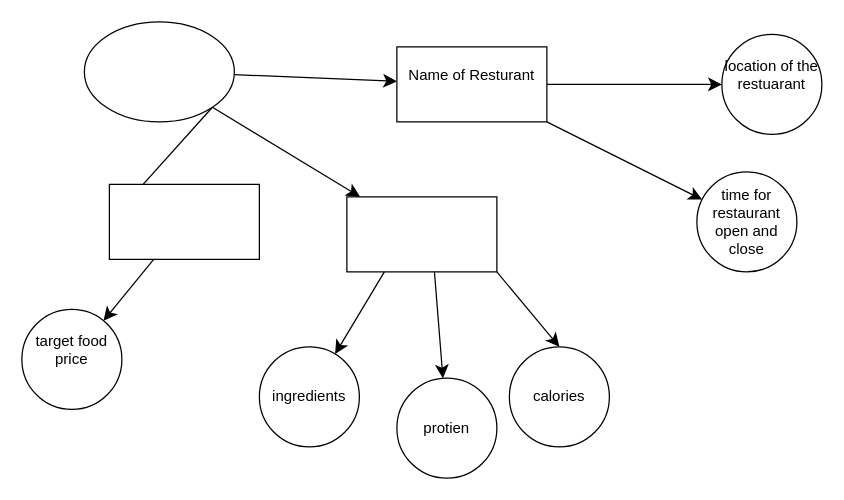
This 844x500 diagram has some shape labels left out. The centre of each missing label's shape, as x and y in pixels:
"description of food package" goes at point 421,234.
"Price of restaurant food" goes at point 183,221.
"resturants data" goes at point 158,71.
